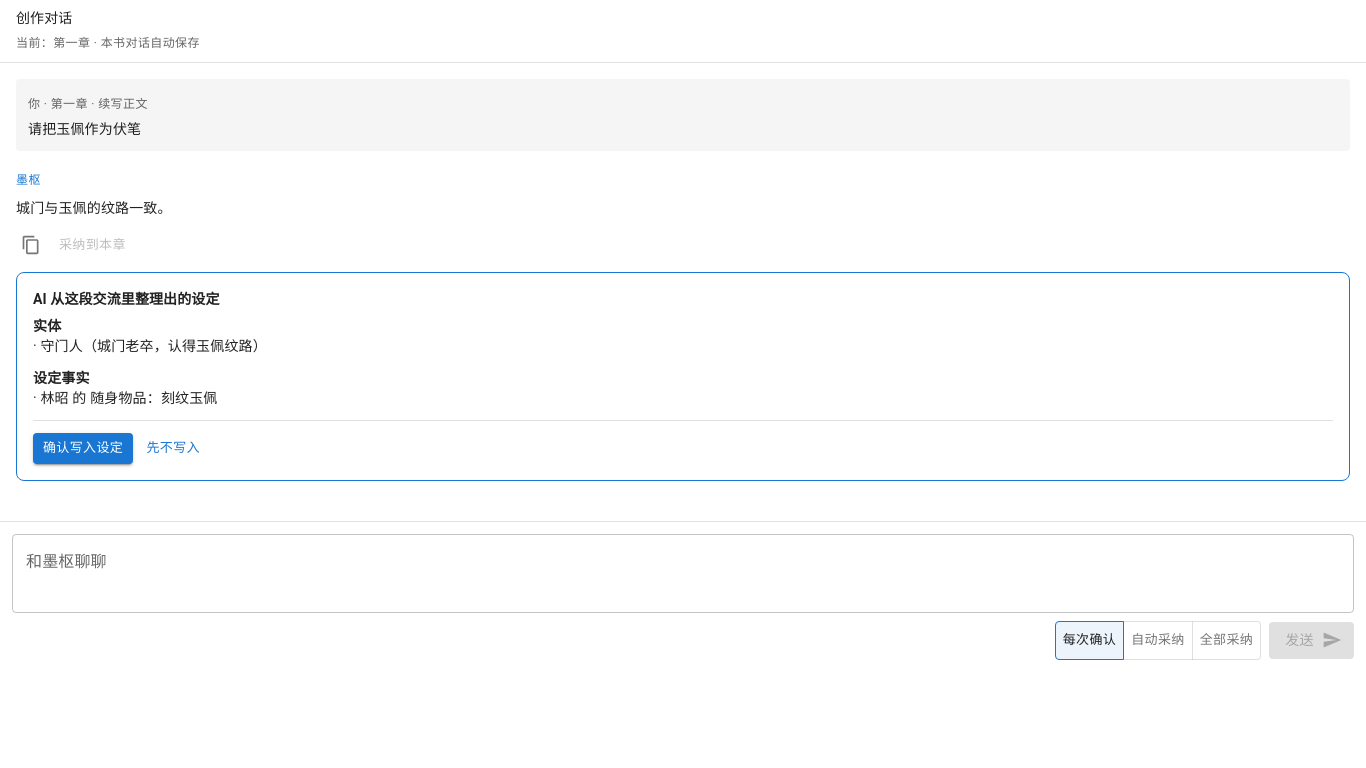
Test case: 设定提案决策 › 服务端拒绝（已写入不可改口）时展示拒绝原因，卡片保持可重试
Click the button "先不写入": point(173, 449) x1=141 y1=433 x2=205 y2=464
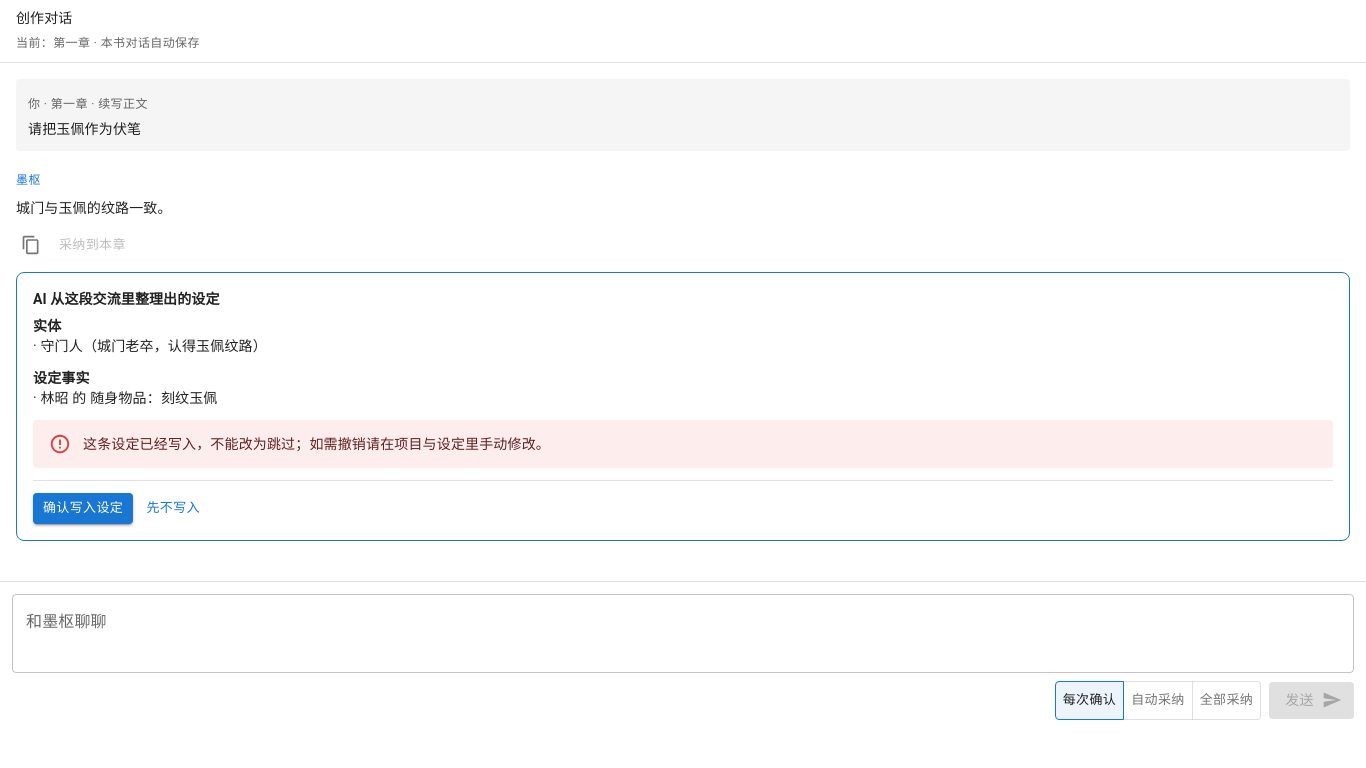
Expected: the button "确认写入设定" is shown, x1=33 y1=493 x2=133 y2=524
Expected: the text "这条设定已经写入，不能改为跳过；如需撤销请在项目与设定里手动修改。" is shown, x1=83 y1=436 x2=550 y2=452
